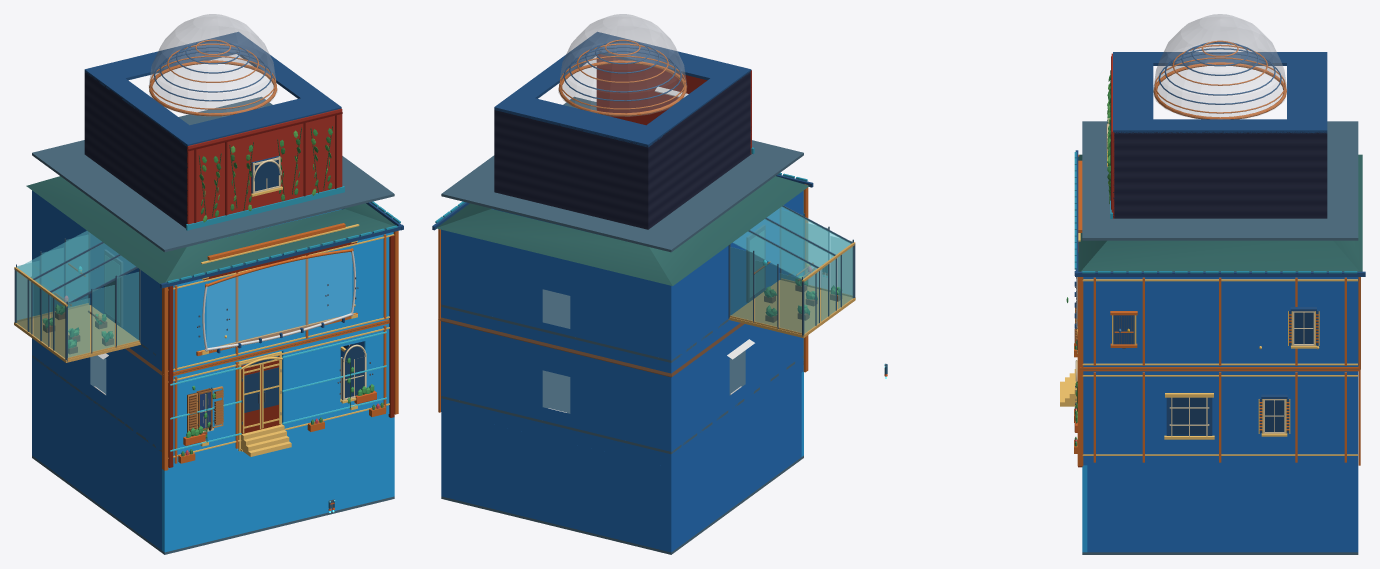
Rendered from exterior-home-C0EK0CVi.glb.
3 views of the same model, side by side, from view 1: azimuth 30°, elevation 25°; view 2: azimuth 150°, elevation 25°; view 3: azimuth 270°, elevation 25° (orthographic). The views are drawn at different scales.
Visible parts, largest first — view 1: WallFront, INT_Foundation_Front, WallLeft, INT_Foundation_Left, ObsDome, INT_Slab_Observatory, ObsFront, RoofMain, CUTAWAY_UpperOpening_Glass, ObsLeft, EXT_ObservatoryRoof_Front, AVIARY_Left_Floor (+39 smaller); view 2: WallBack, INT_Foundation_Back, WallLeft, ObsBack, RoofMain, INT_Foundation_Left, ObsDome, INT_Slab_Observatory, ObsLeft, ObsFront, EXT_ObservatoryRoof_Back, AVIARY_Left_Floor (+24 smaller); view 3: WallRight, INT_Foundation_Right, ObsRight, INT_Slab_Observatory, ObsDome, RoofMain, EXT_ObservatoryRoof_Back, EXT_ObservatoryRoof_Front, EXT_ObservatoryRoof_Right, EXT_ObservatoryRoof_Left, EXT_Belt_Right, EXT_BayGlass (+9 smaller).
Boxes of the visible parts, x1,y1,x2,y2 form: WallFront: (173, 232, 393, 466); INT_Foundation_Front: (162, 414, 394, 552); WallLeft: (32, 190, 161, 465); INT_Foundation_Left: (34, 373, 161, 550); ObsDome: (148, 14, 277, 116); INT_Slab_Observatory: (32, 96, 394, 252); ObsFront: (187, 108, 342, 224); RoofMain: (26, 176, 395, 283); CUTAWAY_UpperOpening_Glass: (207, 252, 351, 347); ObsLeft: (84, 71, 187, 228); EXT_ObservatoryRoof_Front: (168, 93, 341, 146); AVIARY_Left_Floor: (14, 305, 140, 362); WallBack: (442, 230, 671, 467); INT_Foundation_Back: (441, 412, 673, 552); WallLeft: (671, 191, 803, 467); ObsBack: (494, 110, 648, 229); RoofMain: (436, 176, 809, 285); INT_Foundation_Left: (673, 373, 801, 550); ObsDome: (558, 14, 686, 116); INT_Slab_Observatory: (441, 96, 803, 252); ObsLeft: (648, 71, 751, 229); ObsFront: (596, 54, 751, 153); EXT_ObservatoryRoof_Back: (494, 93, 667, 147); AVIARY_Left_Floor: (728, 280, 855, 338); WallRight: (1083, 277, 1358, 465); INT_Foundation_Right: (1087, 465, 1352, 552); ObsRight: (1113, 131, 1327, 218); INT_Slab_Observatory: (1082, 121, 1358, 240); ObsDome: (1153, 14, 1287, 119); RoofMain: (1078, 154, 1362, 271); EXT_ObservatoryRoof_Back: (1287, 52, 1327, 133); EXT_ObservatoryRoof_Front: (1113, 52, 1153, 133); EXT_ObservatoryRoof_Right: (1153, 119, 1286, 133); EXT_ObservatoryRoof_Left: (1153, 52, 1286, 65); EXT_Belt_Right: (1083, 367, 1358, 371); EXT_BayGlass: (1170, 398, 1207, 434).
Size of the model in its own units: 25.8 by 35.89 by 32.78.
